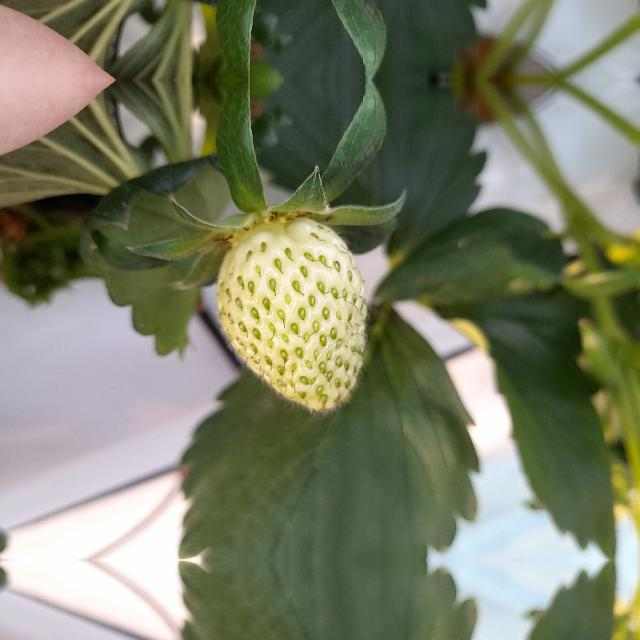Health_25: (215, 217, 369, 415)
